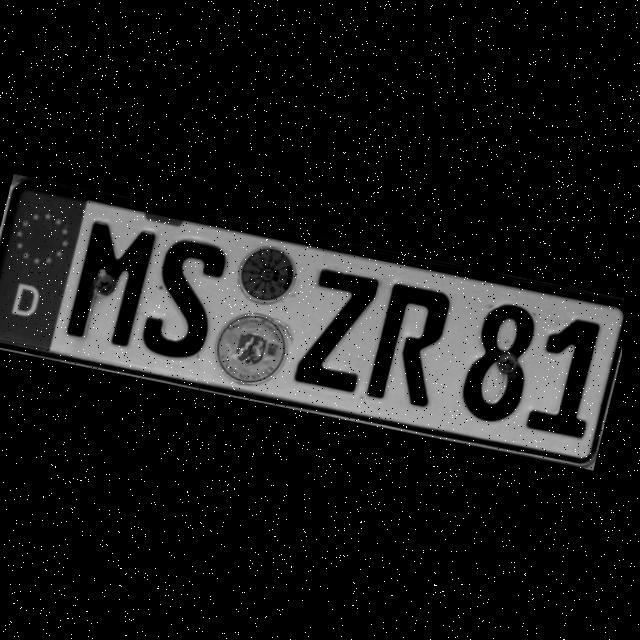license-plates: (0, 179, 625, 466)
